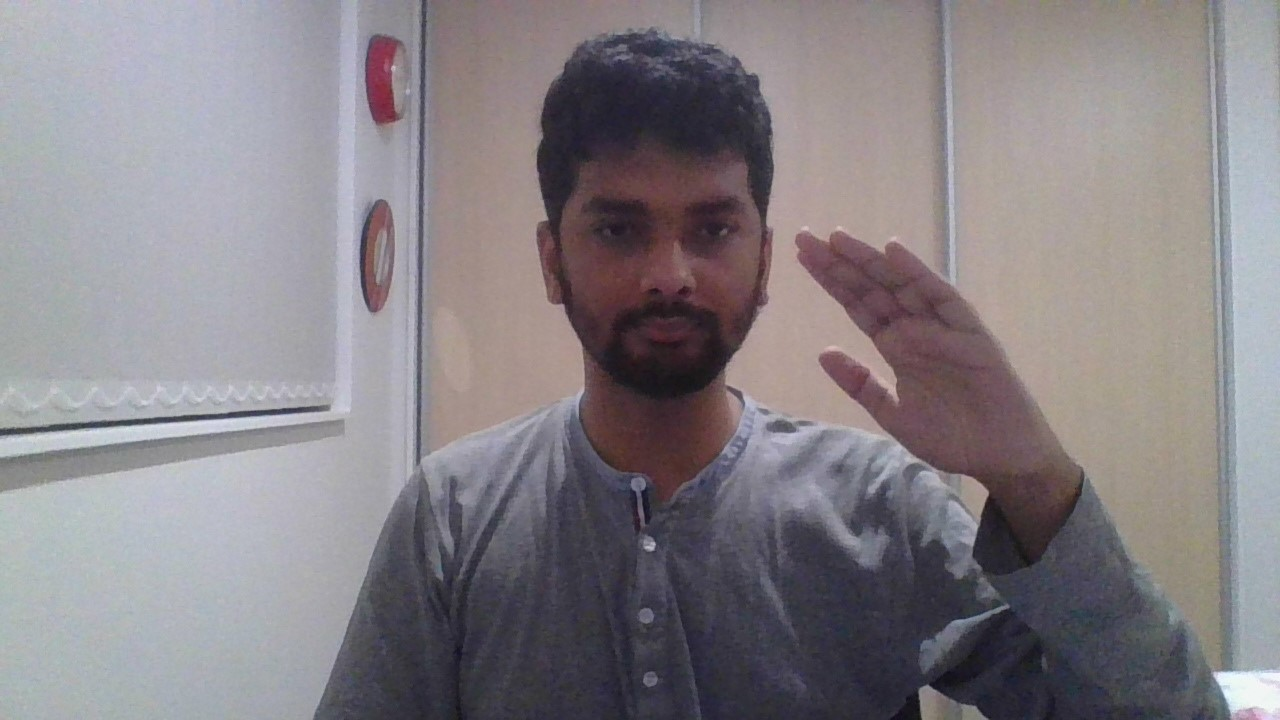hello: (796, 228, 1043, 477)
